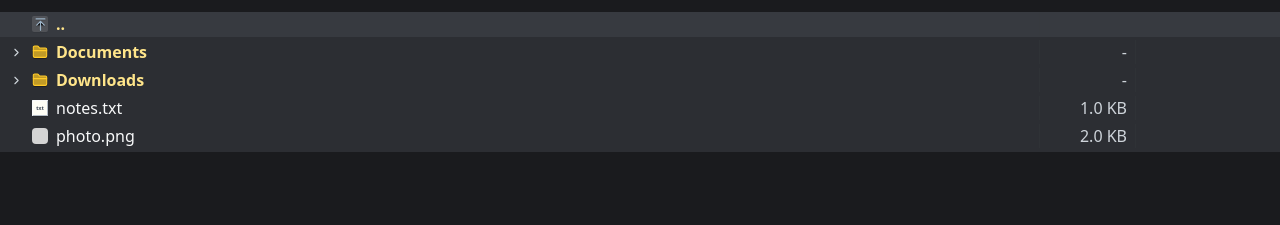
Test: FileList › 트리 펼치기 / 접기 › expand 후 자식 항목이 렌더링된다
The image size is (1280, 225).
Click the button named "Expand folder preview" next to "Documents" at (16, 52), box top-left (8, 44), bottom-right (24, 60)
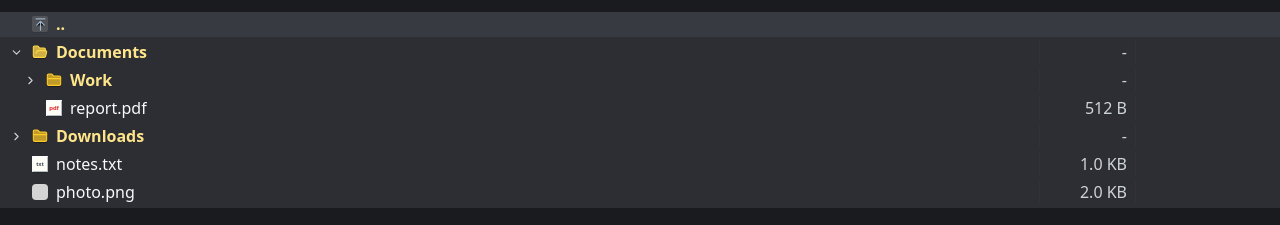
Expected: the element showing "Work -" is shown, top-left (0, 68), bottom-right (1279, 96)
Expected: the element showing "pdf report.pdf 512 B" is shown, top-left (0, 96), bottom-right (1279, 124)
